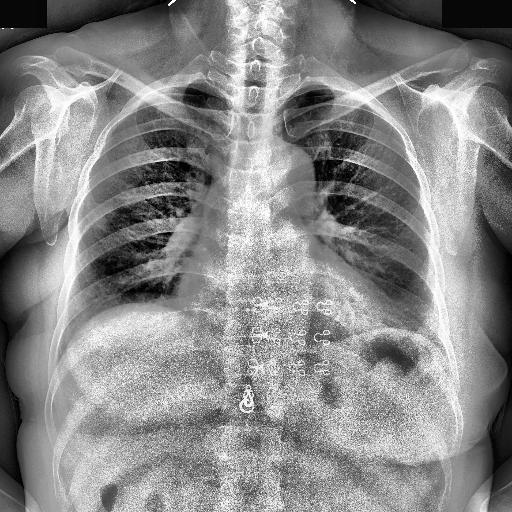0- Aortic enlargement: (255, 142, 315, 216), (260, 144, 314, 206), (268, 140, 316, 205)
3- Cardiomegaly: (175, 266, 404, 340), (178, 260, 396, 328), (174, 277, 404, 328)
